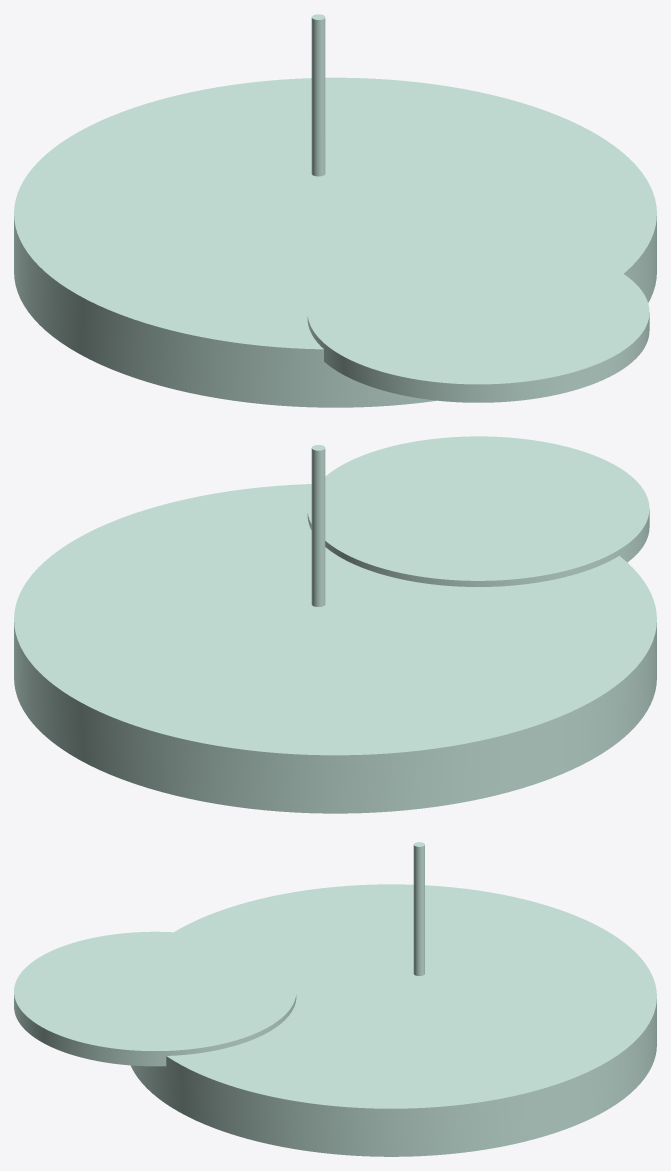
3 views of the same model, one above another, from view 1: azimuth 30°, elevation 25°; view 2: azimuth 150°, elevation 25°; view 3: azimuth 270°, elevation 25° (orthographic). The views are drawn at different scales.
Visible parts, largest first — view 1: Renderer Node; view 2: Renderer Node; view 3: Renderer Node.
Part boxes in pixels (left/top/right/bottom): Renderer Node: left=14, top=14, right=656, bottom=407; Renderer Node: left=14, top=436, right=656, bottom=813; Renderer Node: left=14, top=842, right=656, bottom=1156.
Size of the model in its own units: 1.48 by 0.6172 by 1.8.
